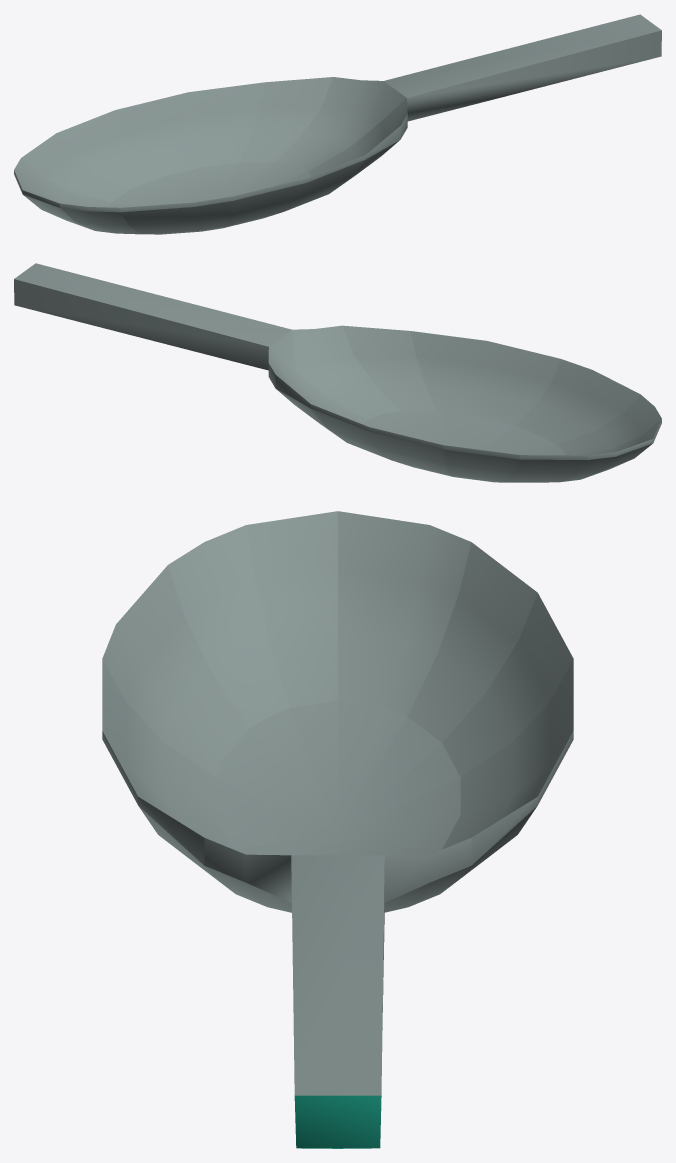
File: SM_Dishes_1.fbx
3 views of the same model, one above another, from view 1: azimuth 30°, elevation 25°; view 2: azimuth 150°, elevation 25°; view 3: azimuth 270°, elevation 25° (orthographic). The views are drawn at different scales.
Parts seen in each view (by area): view 1: SM_Dishes_1; view 2: SM_Dishes_1; view 3: SM_Dishes_1.
Boxes of the visible parts, x1=… form: SM_Dishes_1: x1=14, y1=14, x2=661, y2=234; SM_Dishes_1: x1=14, y1=263, x2=661, y2=482; SM_Dishes_1: x1=102, y1=511, x2=573, y2=1148.
Bounding box in the file's own units: 11.21 × 3.64 × 1.52.
1 material, 1 textured.
